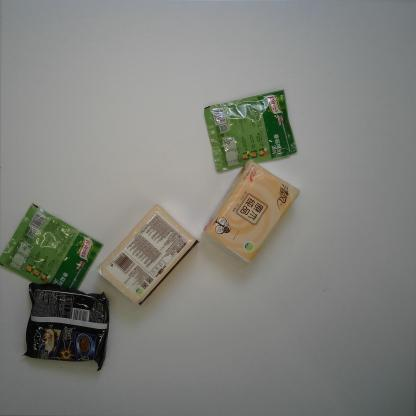Instant Noodles: (19, 281, 111, 372)
Seasoner: (0, 202, 104, 296), (203, 88, 298, 172)
Tissue: (202, 158, 301, 268), (96, 203, 199, 307)
